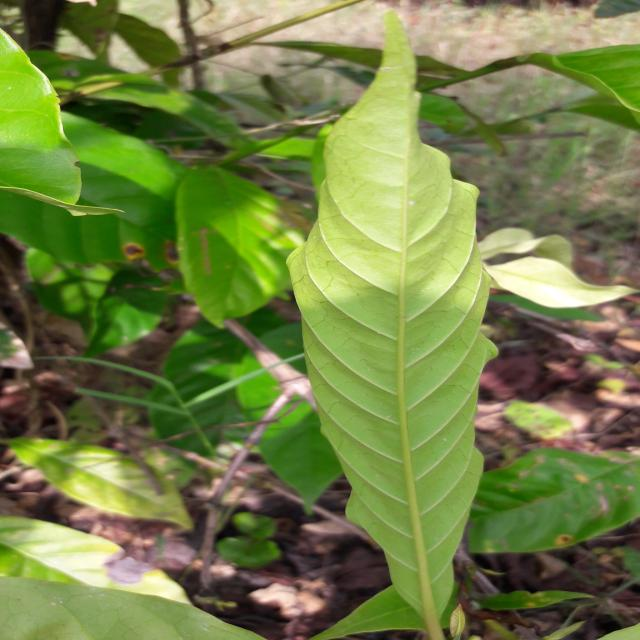Sanas: (288, 19, 498, 640)
